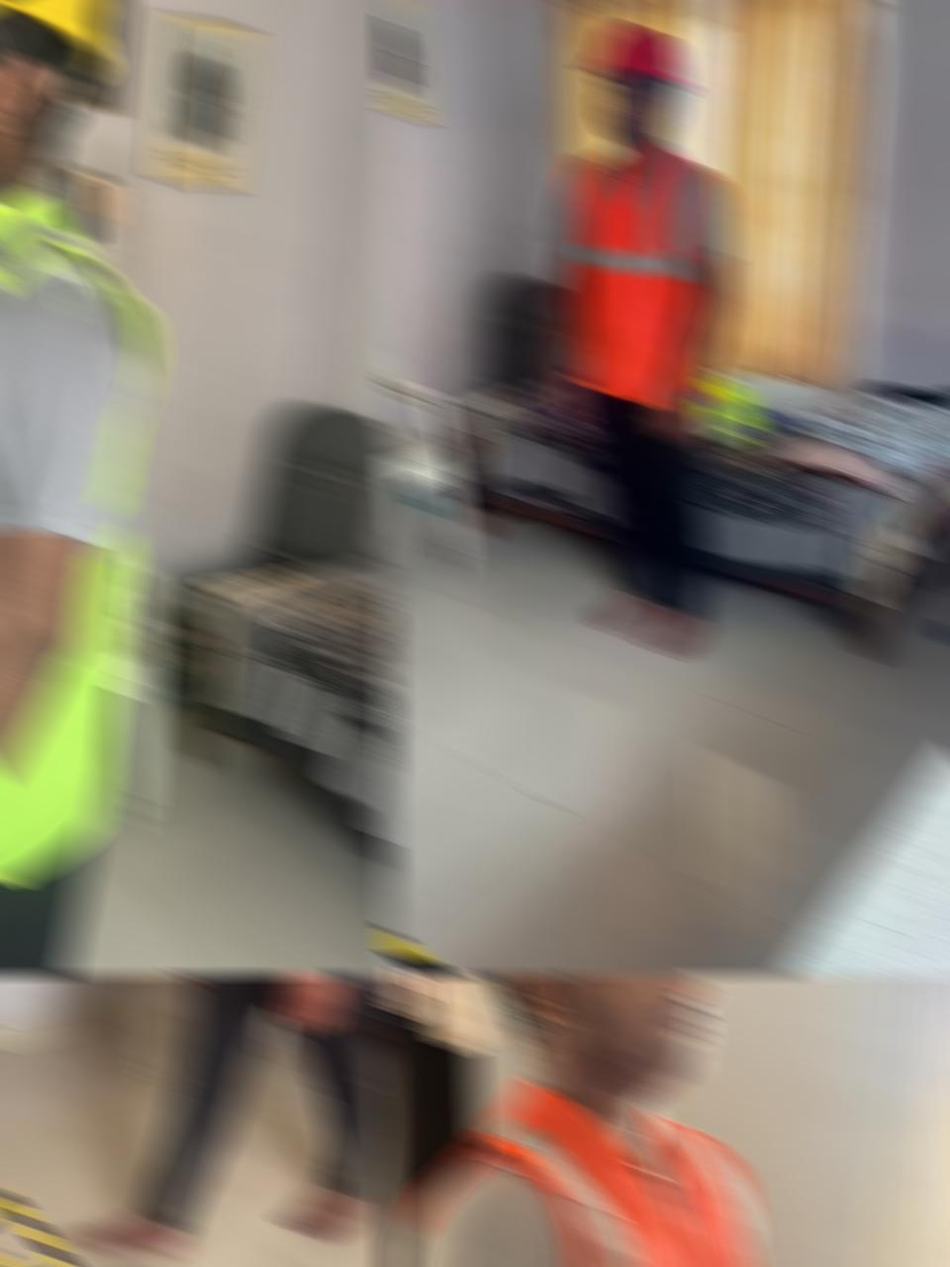BorderLine: (0, 1174, 246, 1267), (382, 922, 467, 977)
Helmet: (578, 22, 690, 91)
No_Helmet: (473, 973, 707, 1047)
Person: (0, 0, 158, 977), (398, 973, 820, 1267), (547, 22, 736, 656), (79, 973, 395, 1257)
Vest: (0, 182, 158, 886), (402, 1078, 770, 1267), (562, 140, 729, 405)
